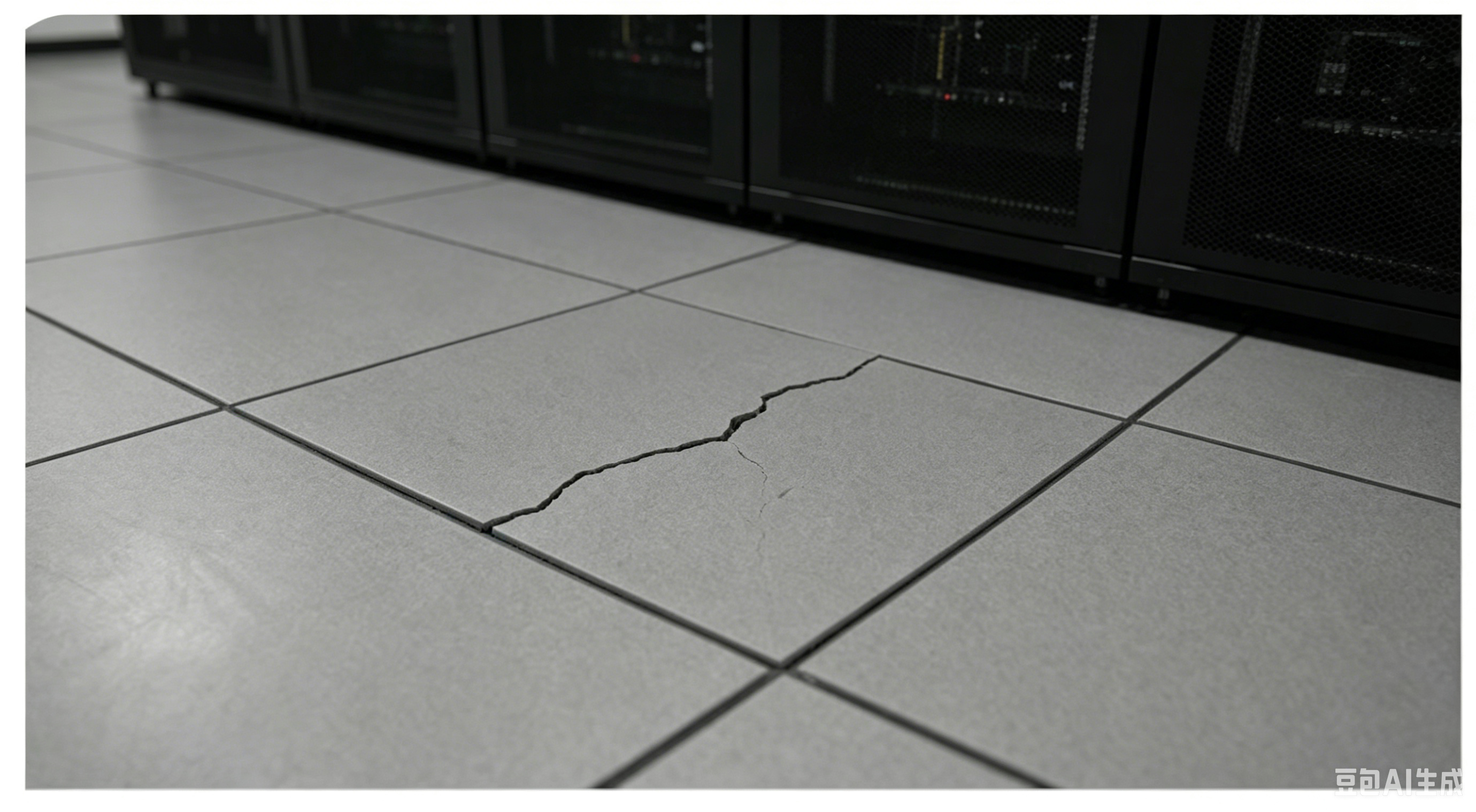floor_defect: (731, 455, 784, 633), (478, 478, 578, 541), (550, 441, 724, 477), (786, 347, 882, 394), (708, 390, 790, 444)
